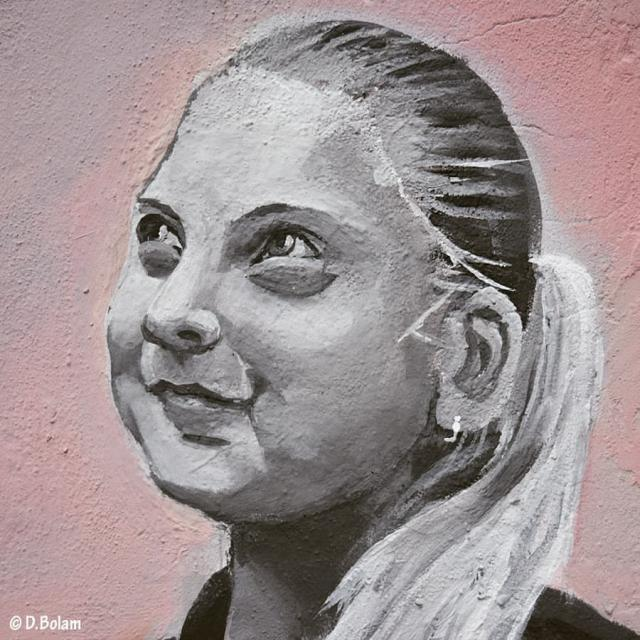-: (93, 14, 614, 634)
